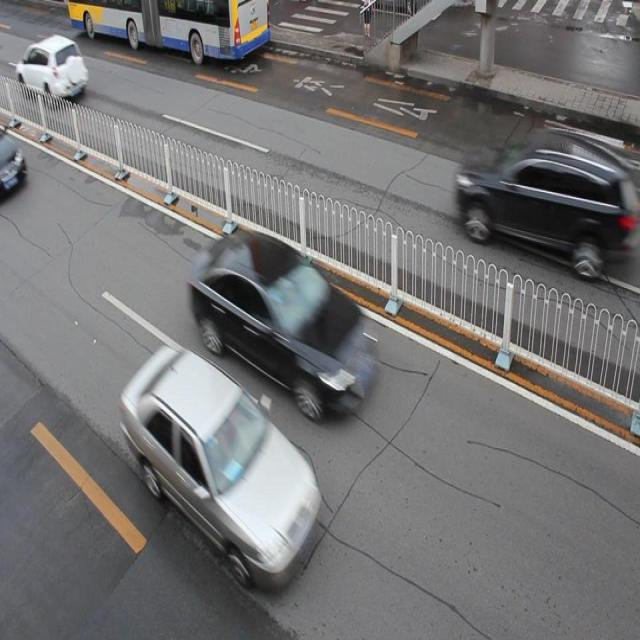car: (120, 347, 316, 575), (189, 231, 368, 415), (456, 125, 640, 275), (18, 32, 87, 108), (1, 128, 28, 204)
van: (71, 1, 272, 70)
